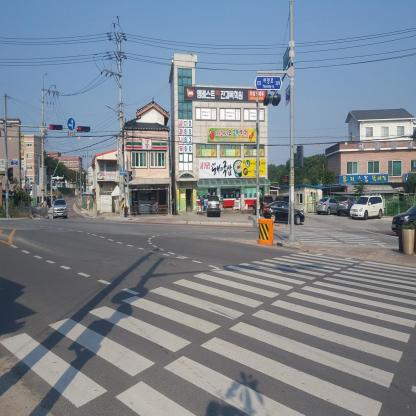Red: (284, 175, 288, 187)
